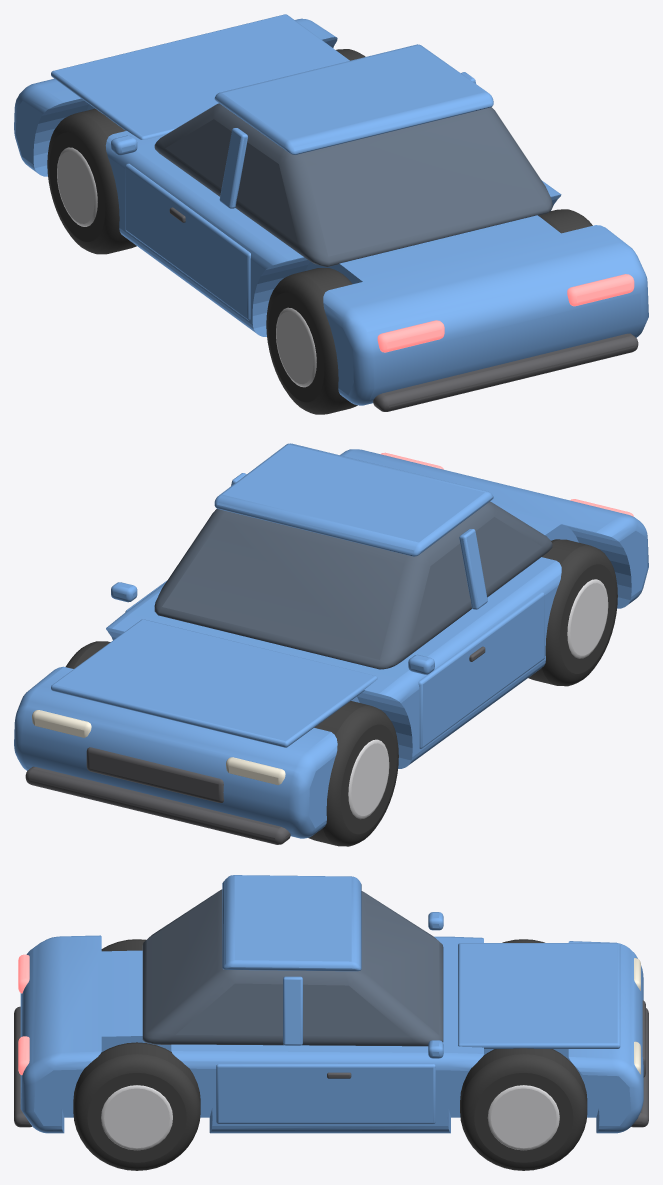
The model's file is Sedan.fbx.
The picture shows the model from 3 angles, top to bottom: view 1: azimuth 30°, elevation 25°; view 2: azimuth 150°, elevation 25°; view 3: azimuth 270°, elevation 25°; orthographic projection. The views are drawn at different scales.
Visible parts, largest first — view 1: Body, Cabin, Panel_Hood, Roof, Panel_Left, Wheel_RL, Wheel_FL, BumperRear, Wheel_RL_Hub, Wheel_FL_Hub, Pillar, Taillight.001 (+2 smaller); view 2: Body, Cabin, Panel_Hood, Roof, Panel_Left, Wheel_FL, Wheel_RL, BumperFront, Grille, Wheel_RL_Hub, Wheel_FL_Hub, Pillar (+2 smaller); view 3: Body, Cabin, Panel_Hood, Panel_Right, Roof, Wheel_RR, Wheel_FR, Wheel_RR_Hub, Wheel_FR_Hub, Pillar.001, BumperRear, BumperFront.
Part boxes in pixels (x1,y1,x2,y2): Body: (14,18,648,405); Cabin: (154,103,552,267); Panel_Hood: (51,14,349,139); Roof: (214,44,493,154); Panel_Left: (125,163,250,320); Wheel_RL: (266,268,357,414); Wheel_FL: (47,108,136,254); BumperRear: (373,333,638,411); Wheel_RL_Hub: (276,307,316,387); Wheel_FL_Hub: (57,147,97,226); Pillar: (219,128,247,208); Taillight.001: (567,274,634,306); Body: (14,449,648,838); Cabin: (154,501,552,669); Panel_Hood: (51,619,377,747); Roof: (214,443,493,556); Panel_Left: (418,592,544,748); Wheel_FL: (308,701,398,846); Wheel_RL: (528,539,617,686); BumperFront: (25,766,290,844); Grille: (86,747,223,802); Wheel_RL_Hub: (567,579,608,658); Wheel_FL_Hub: (348,739,389,819); Pillar: (459,529,487,609); Body: (20,935,643,1133); Cabin: (142,889,443,1046); Panel_Hood: (458,943,620,1048); Panel_Right: (216,1063,435,1124); Roof: (222,875,361,971); Wheel_RR: (73,1042,200,1170); Wheel_FR: (460,1048,587,1170); Wheel_RR_Hub: (101,1085,172,1150); Wheel_FR_Hub: (487,1085,559,1150); Pillar.001: (283,976,302,1045); BumperRear: (14,1006,31,1127); BumperFront: (631,1008,648,1127).
Size of the model in its own units: 7.4 by 4.9 by 14.45.
